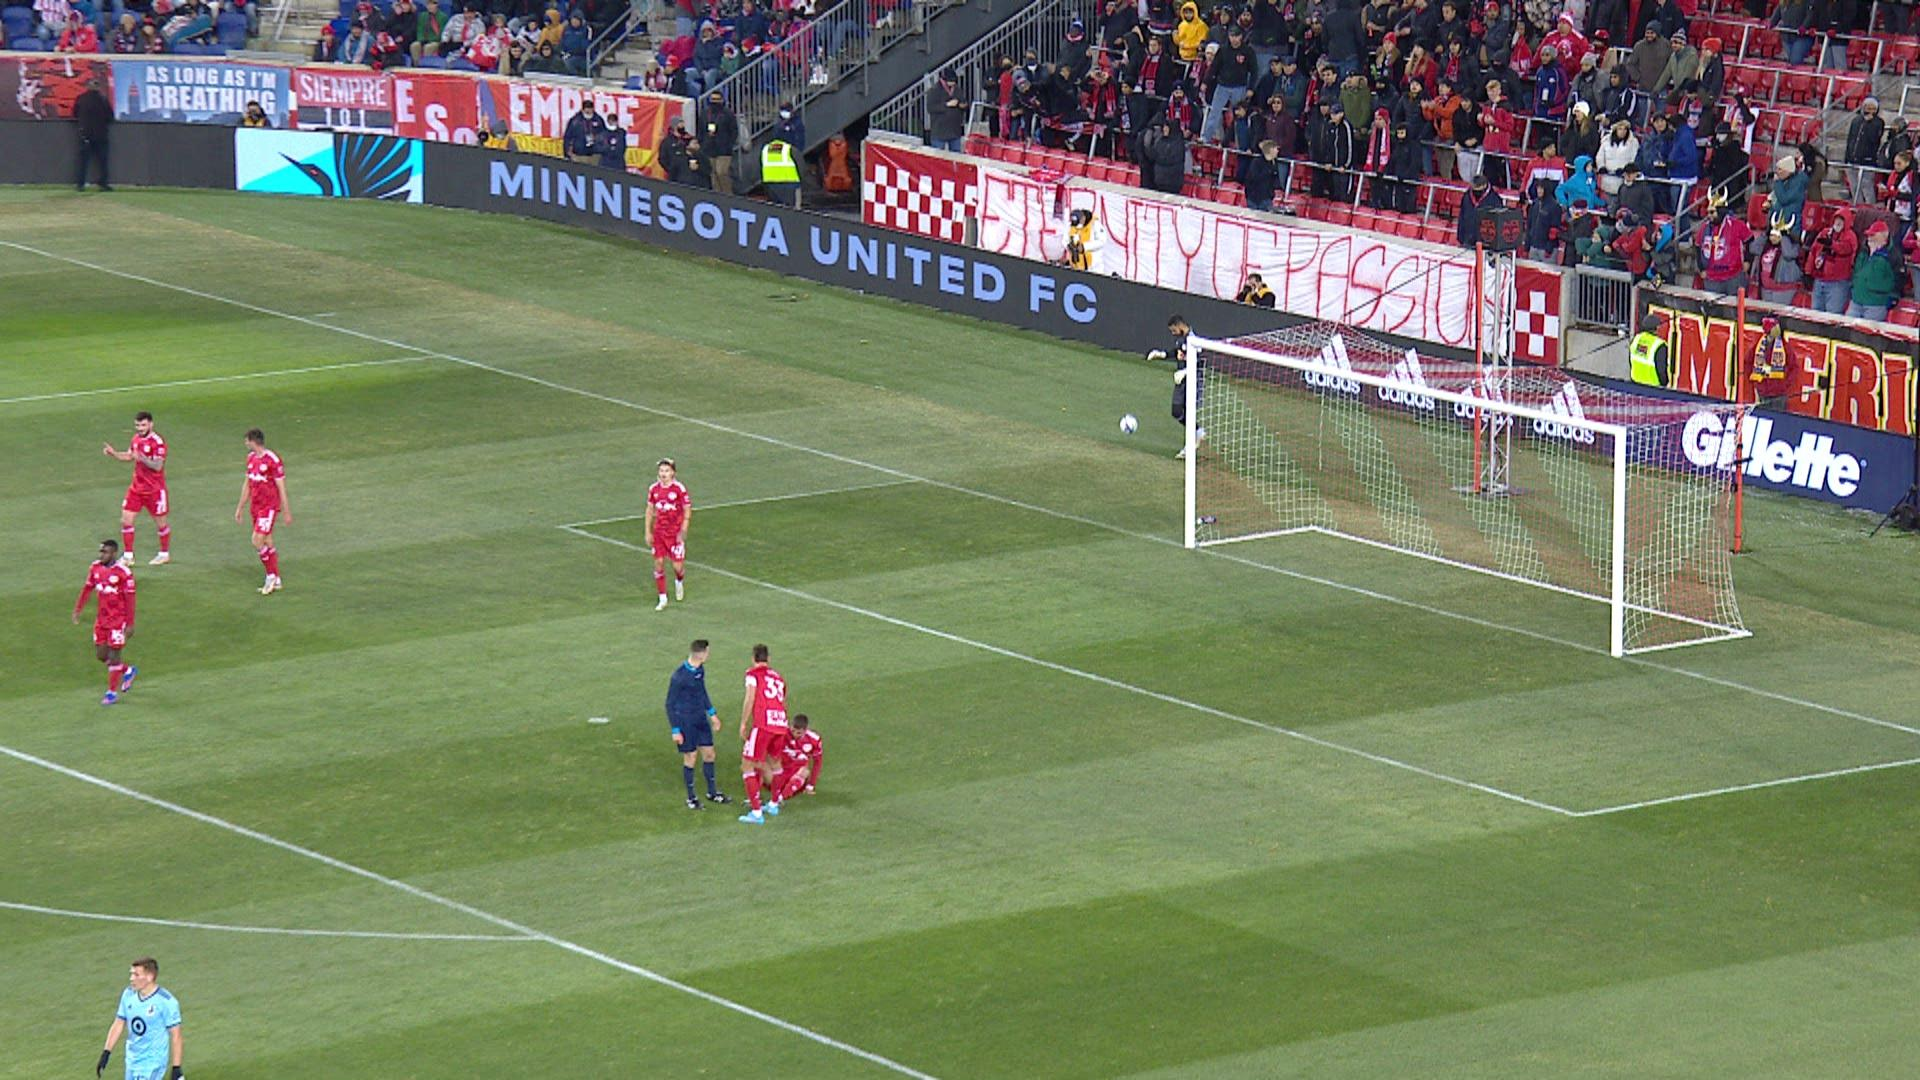football: (1118, 413, 1141, 436)
